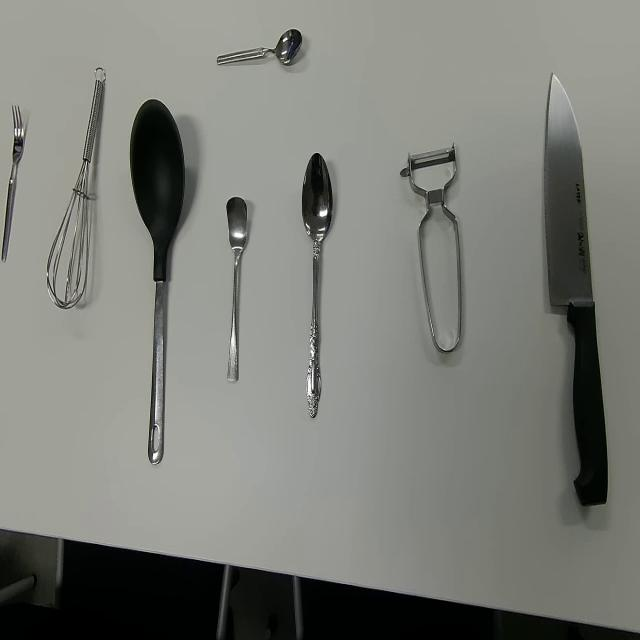Desert-Spoon: (302, 151, 334, 421)
Dinner-Fork: (1, 103, 24, 264)
Kitchen-Knife: (544, 70, 610, 509)
Peeler: (400, 140, 463, 354)
Serving-Spoon: (128, 97, 186, 468)
Tea-Spoon: (226, 194, 248, 382), (216, 27, 304, 68)
Whisk: (46, 65, 106, 310)
